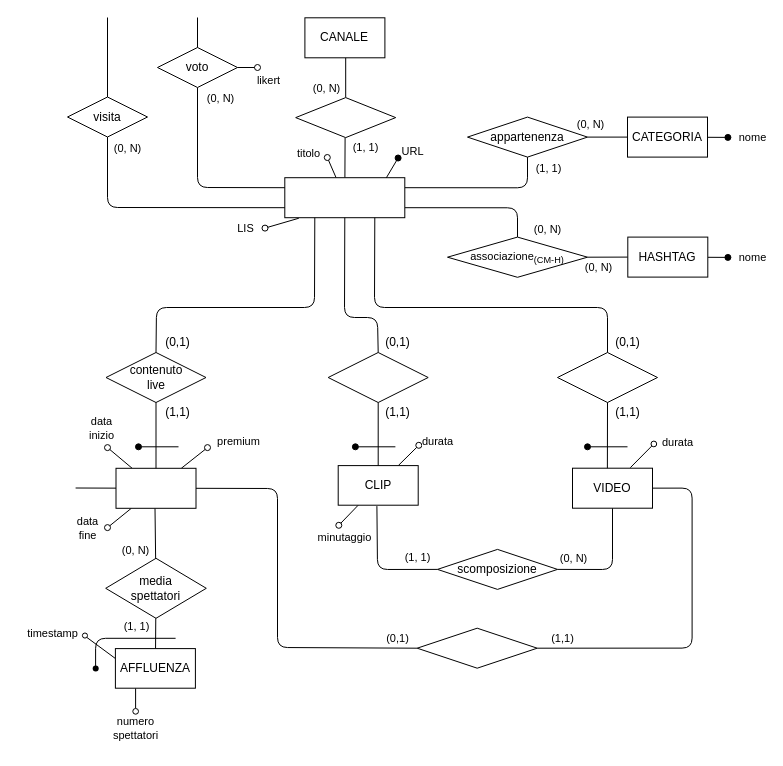
Some shapes in this 783 by 766 pixel diagram are drawn without their labels. Here are the shapes that lost their labels. From the top down, the centre of each, then its label:
At (x=345, y=117): "contenitore".
At (x=344, y=197): "CONTENUTO MULTIMEDIALE".
At (x=377, y=377): "contenuto clip".
At (x=607, y=377): "contenuto video".
At (x=155, y=487): "LIVE".
At (x=476, y=647): "riferimento".
